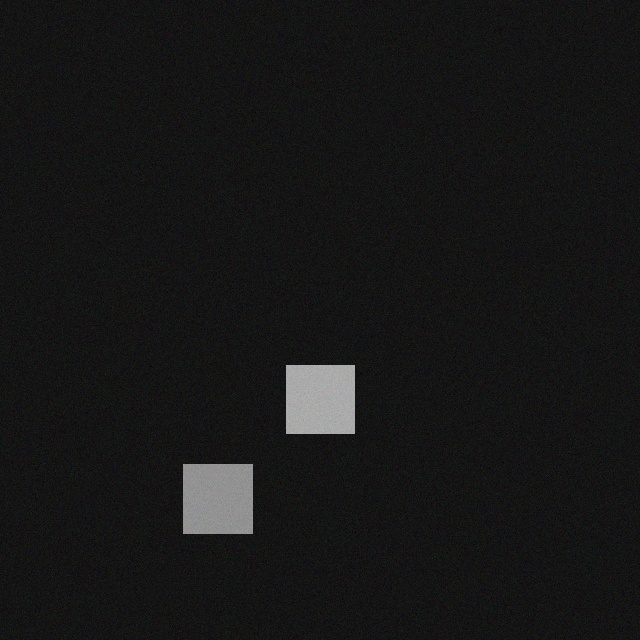square: (183, 471, 252, 540), (286, 372, 354, 440)
